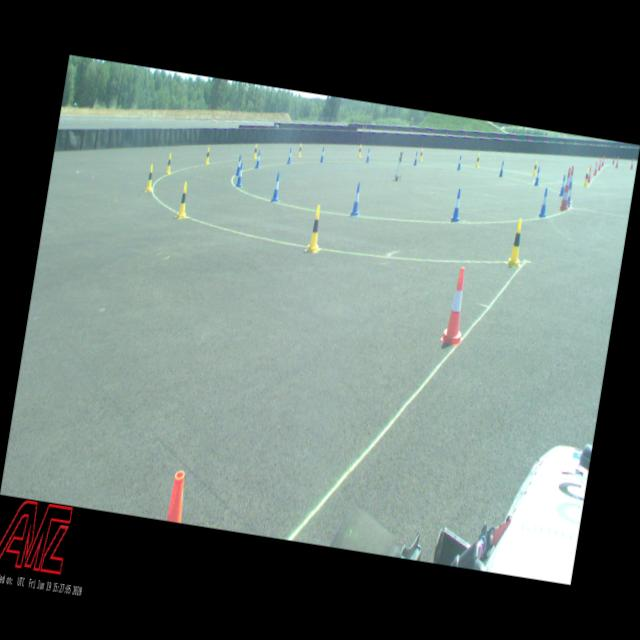blue_cone: (450, 188, 464, 222), (351, 182, 364, 216), (538, 188, 550, 218), (272, 172, 282, 202), (236, 163, 246, 187), (566, 180, 574, 208), (558, 174, 566, 196), (235, 155, 242, 176), (255, 150, 262, 169), (534, 168, 541, 186), (286, 148, 293, 165), (498, 160, 505, 177), (320, 147, 326, 163), (413, 152, 419, 166), (366, 147, 371, 163), (457, 154, 462, 170)
large_orange_cone: (559, 168, 574, 210), (566, 164, 576, 206)
orange_cone: (439, 266, 473, 348), (593, 162, 599, 176), (588, 166, 592, 182), (630, 158, 634, 170), (598, 158, 602, 170), (616, 157, 620, 168), (602, 156, 605, 166)
yellow_cone: (506, 218, 526, 267), (306, 204, 324, 253), (177, 181, 191, 219), (145, 166, 156, 192), (165, 153, 174, 174), (205, 146, 212, 164), (583, 168, 590, 186), (532, 160, 538, 176), (253, 144, 259, 160), (298, 143, 304, 157), (418, 149, 424, 162), (358, 144, 362, 158), (476, 154, 480, 166)
